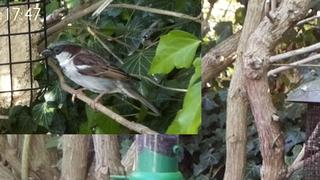sparrow: (40, 40, 161, 115)
